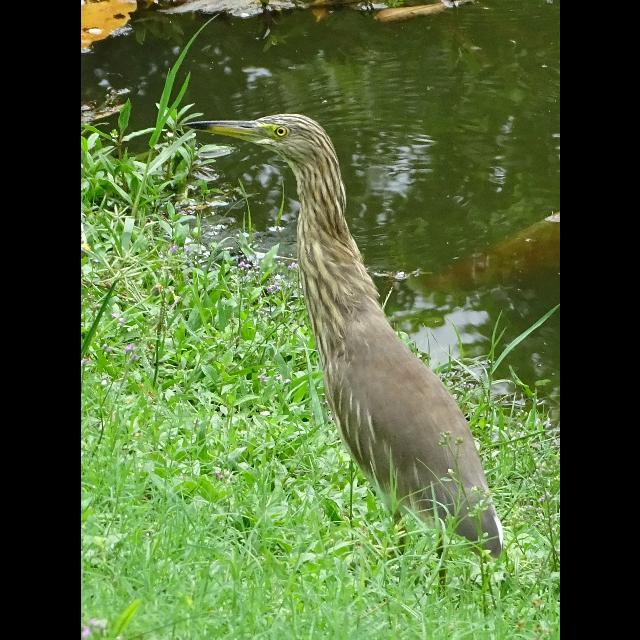heron: (186, 110, 502, 560)
